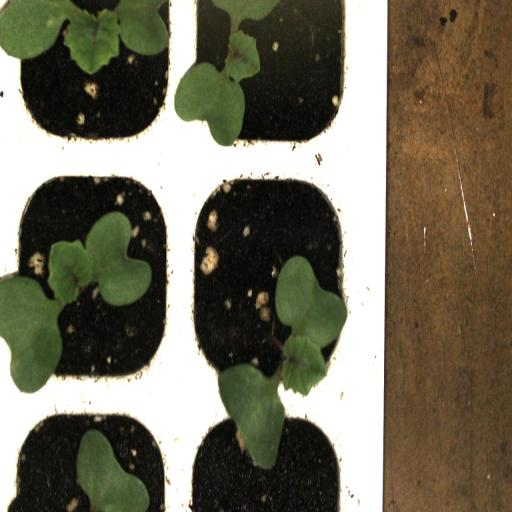seedling: (9, 158, 185, 398), (186, 159, 358, 396), (9, 0, 189, 155), (190, 0, 357, 157)
